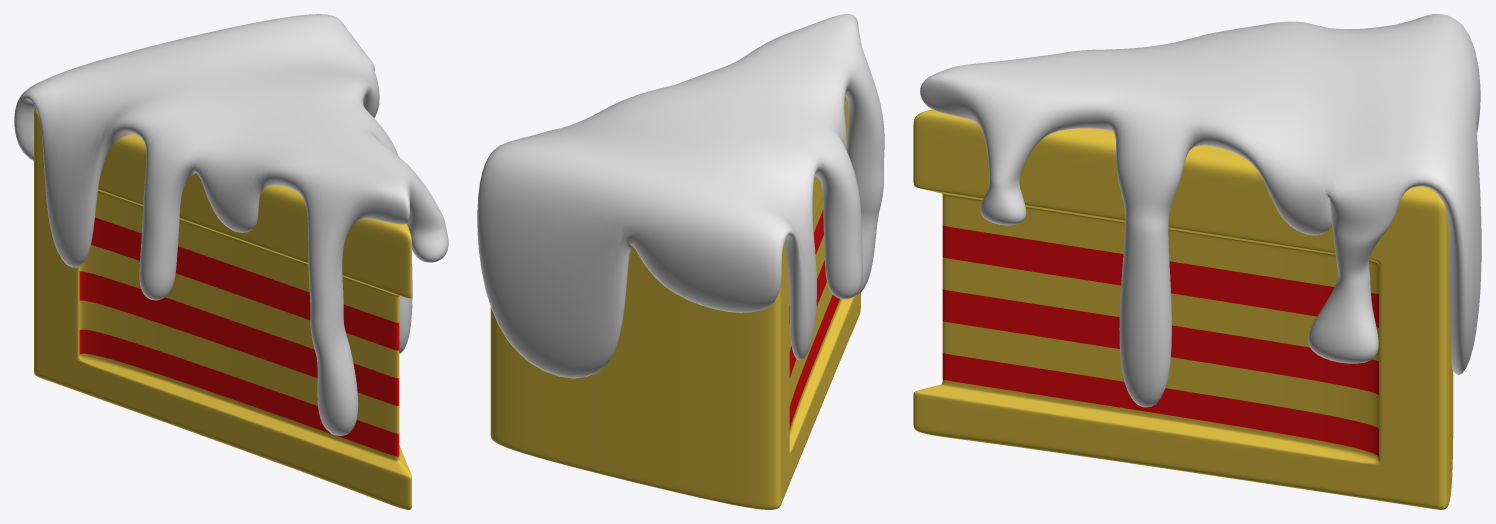
File: CakeSliceVanillaStrawberry(Ver2).fbx
3 renders of one model, left to right at view 1: azimuth 30°, elevation 25°; view 2: azimuth 150°, elevation 25°; view 3: azimuth 270°, elevation 25°, orthographic. The views are drawn at different scales.
Parts seen in each view (by area): view 1: Cube, Plane; view 2: Plane, Cube; view 3: Cube, Plane.
Part boxes in pixels (x1,y1,x2,y2): Cube: (34, 108, 411, 509); Plane: (14, 14, 448, 435); Plane: (477, 14, 884, 378); Cube: (490, 95, 860, 509); Cube: (913, 109, 1453, 509); Plane: (920, 14, 1481, 407).
Size of the model in its own units: 223 by 215 by 303.
